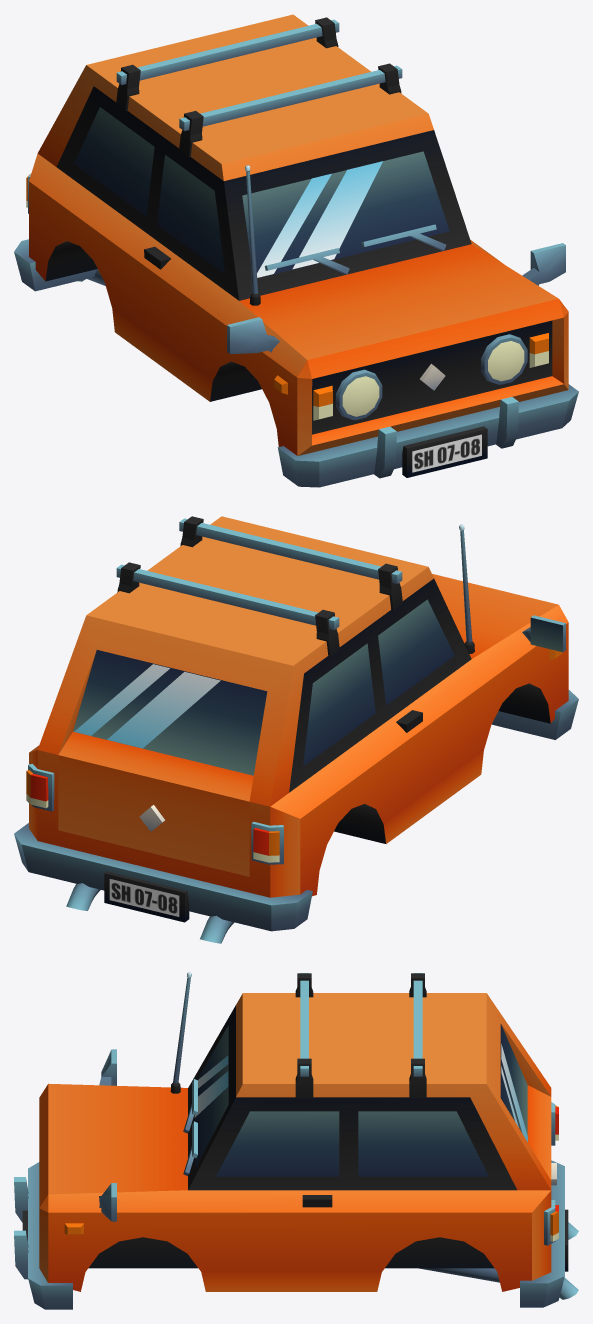
Rendered from Cars1.gltf.
The picture shows the model from 3 angles, top to bottom: view 1: azimuth 30°, elevation 25°; view 2: azimuth 150°, elevation 25°; view 3: azimuth 270°, elevation 25°; orthographic projection. The views are drawn at different scales.
Visible parts, largest first — view 1: _gltfNode_114; view 2: _gltfNode_114; view 3: _gltfNode_114.
Part boxes in pixels (x1,y1,x2,y2): _gltfNode_114: (14, 14, 578, 487); _gltfNode_114: (14, 516, 578, 943); _gltfNode_114: (14, 972, 578, 1309).
Size of the model in its own units: 2.47 by 1.95 by 4.
1 material, 1 textured.
